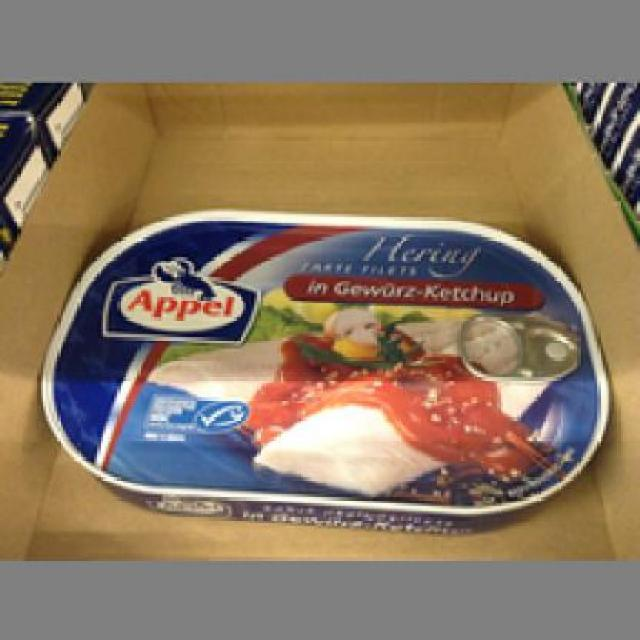Fish: (37, 206, 606, 532)
